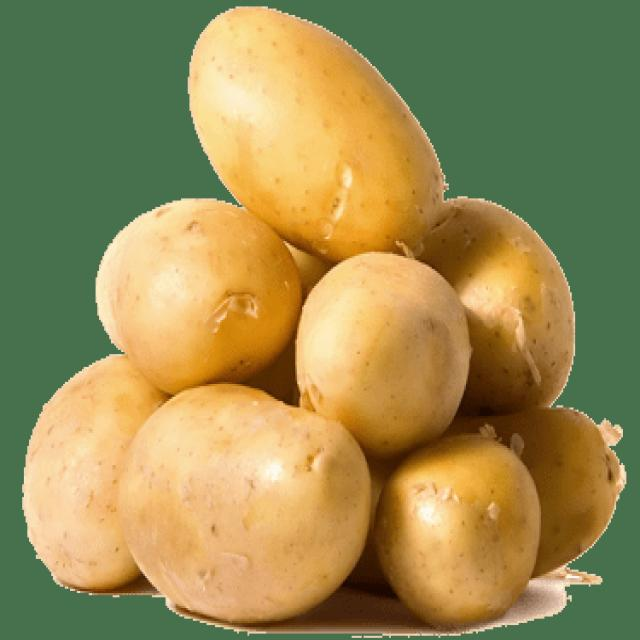potato: (106, 386, 376, 634), (185, 5, 445, 261), (287, 250, 474, 459), (96, 205, 303, 384)
